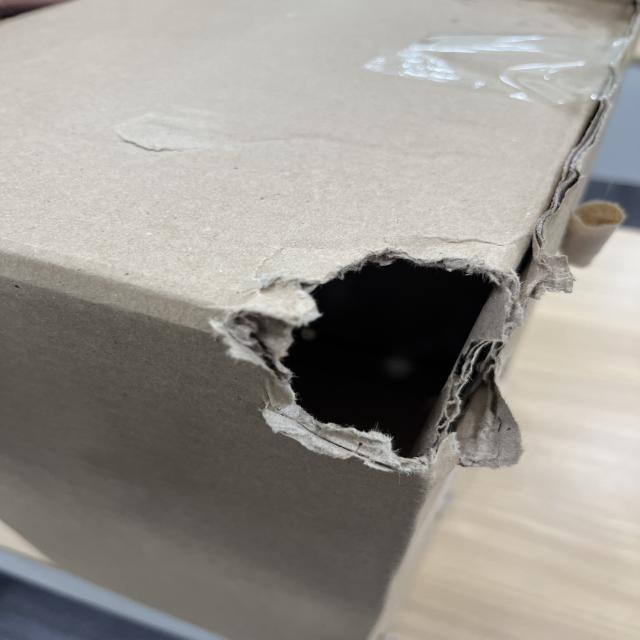hole: (231, 251, 509, 461)
